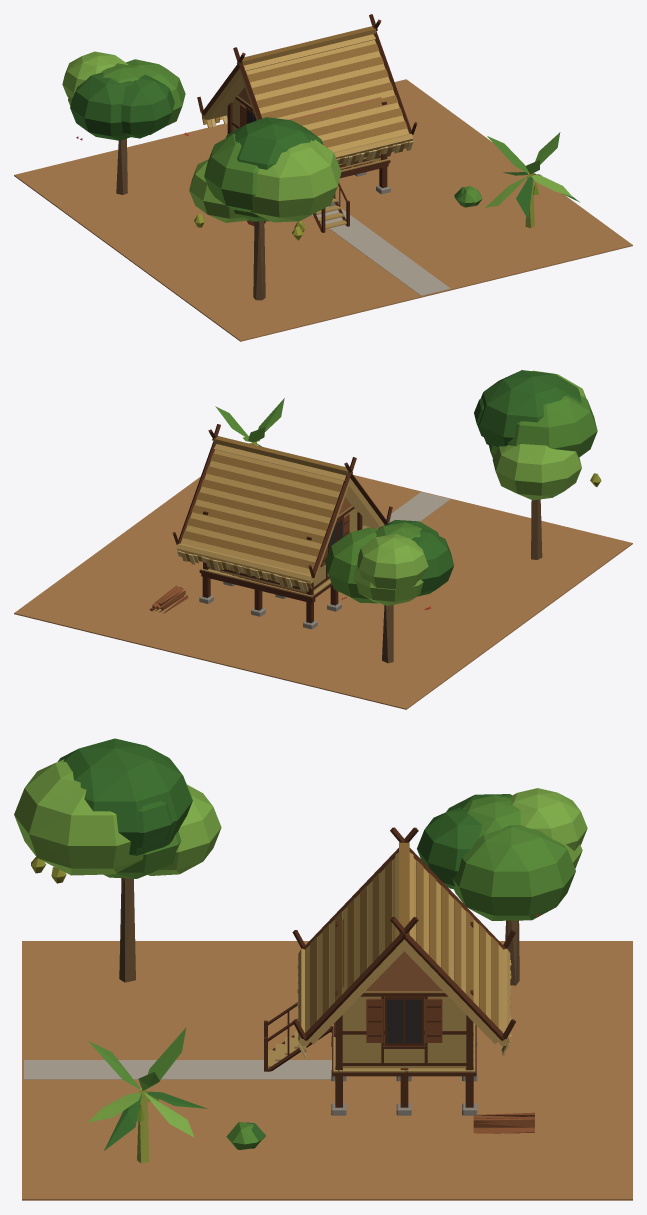
Rendered from home_1.glb.
The picture shows the model from 3 angles, top to bottom: view 1: azimuth 30°, elevation 25°; view 2: azimuth 150°, elevation 25°; view 3: azimuth 270°, elevation 25°; orthographic projection. The views are drawn at different scales.
Parts seen in each view (by area): view 1: body; view 2: body; view 3: body, windows.
Boxes of the visible parts, x1,y1,x2,y2 form: body: [14, 14, 632, 341]; body: [14, 370, 632, 709]; body: [14, 738, 632, 1200]; windows: [387, 999, 421, 1043].
Size of the model in its own units: 16.18 by 6.89 by 16.11.
